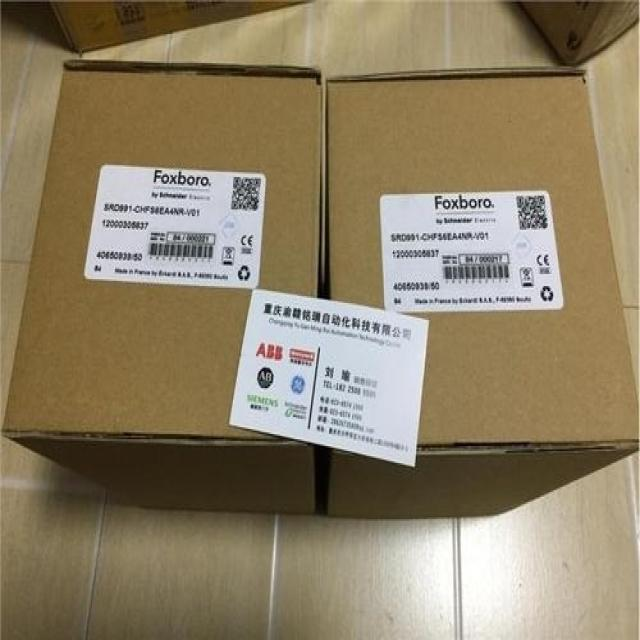box: (3, 61, 324, 511), (324, 70, 639, 517), (49, 2, 308, 53), (520, 2, 639, 66)
